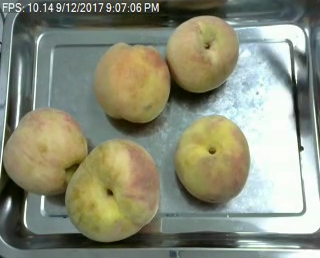Peach: (65, 139, 158, 244), (4, 107, 85, 193), (173, 114, 251, 203), (91, 39, 169, 125), (164, 15, 240, 94)
